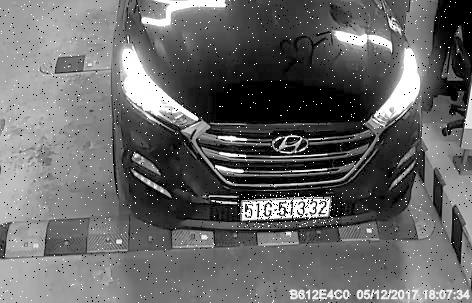License-plate: (239, 193, 345, 229)
